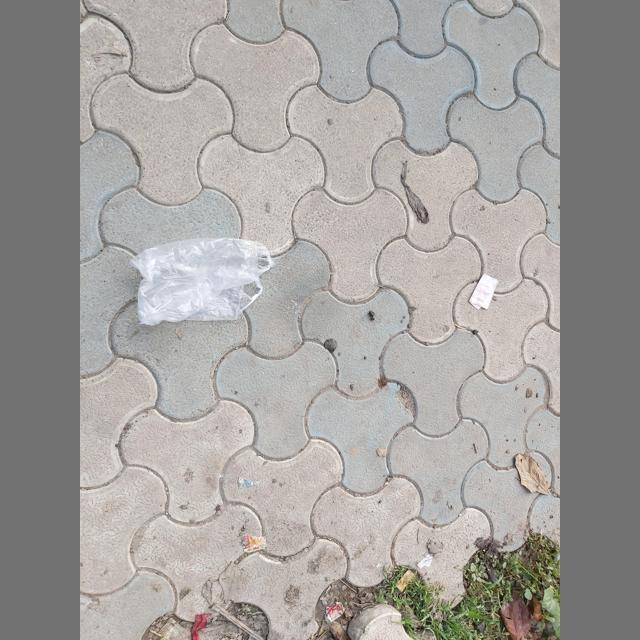litter: (128, 237, 276, 326), (469, 274, 498, 310), (242, 535, 267, 554), (396, 569, 416, 592), (326, 602, 346, 623), (417, 554, 432, 570), (238, 478, 261, 488)
